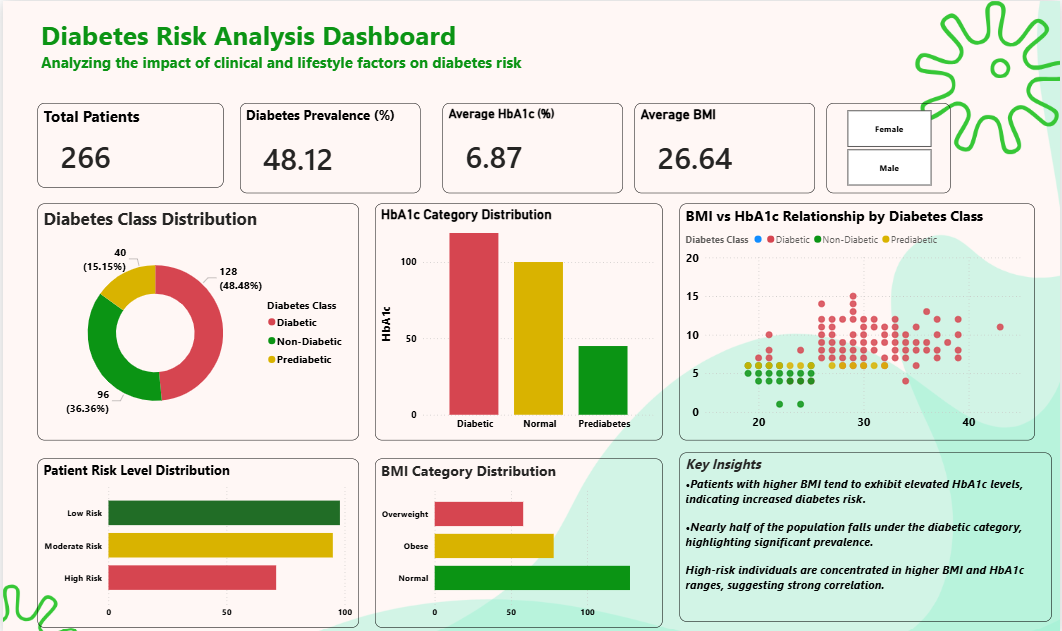

This screenshot's page, from the dashboard's own definition file:
{"tool":"powerbi","page":{"name":"Page 1","canvas":[1500,900],"ordinal":0},"visuals":[{"type":"cardVisual","title":"Total Patients","fields":{"Data":["Multiclass Diabetes Dataset.Total Patients"]},"box":[48,144,264,120],"z":0},{"type":"cardVisual","title":"Diabetes Prevalence (%)","fields":{"Data":["Multiclass Diabetes Dataset.Diabetes %"]},"box":[336,144,256,128],"z":1000},{"type":"cardVisual","title":"Average HbA1c (%)","fields":{"Data":["Multiclass Diabetes Dataset.Avg HbA1c"]},"box":[624,144,256,128],"z":2000},{"type":"cardVisual","title":"Average BMI","fields":{"Data":["Multiclass Diabetes Dataset.Avg BMI"]},"box":[896,144,256,128],"z":3000},{"type":"donutChart","title":"Diabetes Class Distribution","fields":{"Category":["Multiclass Diabetes Dataset.Diabetes Class"],"Y":["CountNonNull(Multiclass Diabetes Dataset.Diabetes Class)"]},"box":[48,288,456,336],"z":4000},{"type":"clusteredBarChart","title":"Patient Risk Level Distribution","fields":{"Category":["Multiclass Diabetes Dataset.Risk Level"],"Y":["CountNonNull(Multiclass Diabetes Dataset.Risk Level)"]},"box":[48,648,456,240],"z":5000},{"type":"columnChart","title":"HbA1c Category Distribution","fields":{"Category":["Multiclass Diabetes Dataset.HbA1c Category"],"Y":["CountNonNull(Multiclass Diabetes Dataset.HbA1c Category)"]},"box":[528,288,408,336],"z":6000},{"type":"clusteredBarChart","title":"BMI Category Distribution","fields":{"Category":["Multiclass Diabetes Dataset.BMI Category"],"Y":["CountNonNull(Multiclass Diabetes Dataset.BMI Category)"]},"box":[528,648,408,240],"z":7000},{"type":"scatterChart","title":"BMI vs HbA1c Relationship by Diabetes Class","fields":{"X":["Multiclass Diabetes Dataset.BMI"],"Y":["Multiclass Diabetes Dataset.HbA1c"],"Series":["Multiclass Diabetes Dataset.Diabetes Class"]},"box":[960,288,504,336],"z":8000},{"type":"textbox","box":[48,16,752,96],"z":10000},{"type":"textbox","title":"Key Insights","box":[960,640,528,240],"z":11000},{"type":"slicer","fields":{"Values":["Multiclass Diabetes Dataset.Gender"]},"box":[1168,144,176,128],"z":11001}]}

Visuals, with their boxes in screenshot pixels (x1, y1, x2, y2), scaled from the page's 1500x900 canvas onto the 1062x631 screenshot:
"Total Patients" cardVisual: <region>34, 101, 221, 185</region>
"Diabetes Prevalence (%)" cardVisual: <region>238, 101, 419, 191</region>
"Average HbA1c (%)" cardVisual: <region>442, 101, 623, 191</region>
"Average BMI" cardVisual: <region>634, 101, 816, 191</region>
"Diabetes Class Distribution" donutChart: <region>34, 202, 357, 437</region>
"Patient Risk Level Distribution" clusteredBarChart: <region>34, 454, 357, 623</region>
"HbA1c Category Distribution" columnChart: <region>374, 202, 663, 437</region>
"BMI Category Distribution" clusteredBarChart: <region>374, 454, 663, 623</region>
"BMI vs HbA1c Relationship by Diabetes Class" scatterChart: <region>680, 202, 1037, 437</region>
textbox: <region>34, 11, 566, 79</region>
"Key Insights" textbox: <region>680, 449, 1054, 617</region>
slicer - Multiclass Diabetes Dataset.Gender: <region>827, 101, 952, 191</region>
